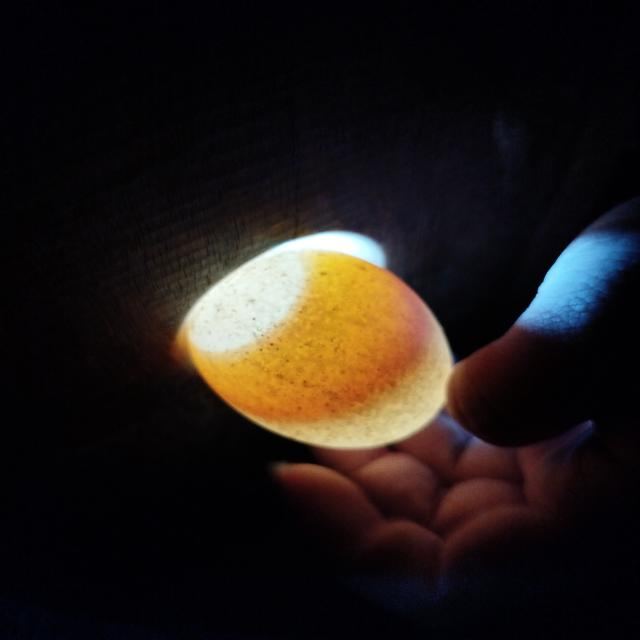Camara de Ar: (190, 251, 310, 348)
